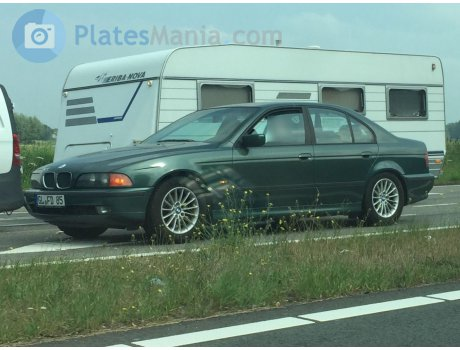License Plates: (35, 193, 71, 202)
